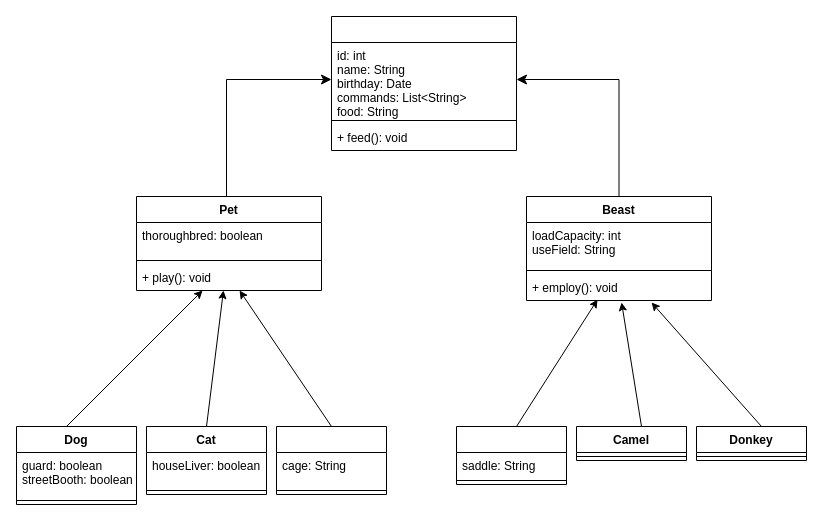
This 823x521 diagram has some shape labels left out. Here are the shapes that lost their labels. From the top down, the box of each, then its label:
(330, 16, 516, 150): Animal
(276, 426, 386, 494): Hamster
(456, 426, 566, 484): Horse
